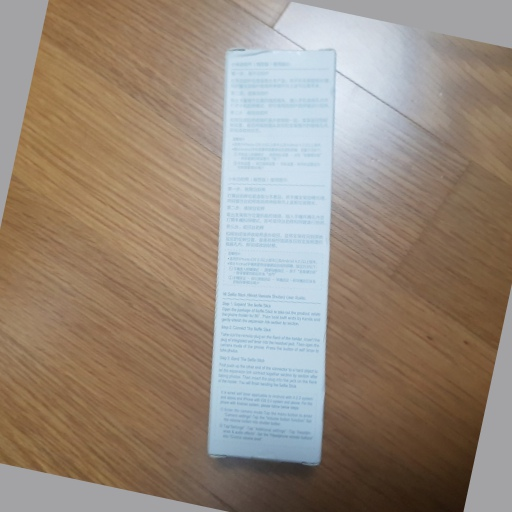Paper_0: (201, 40, 345, 471)
